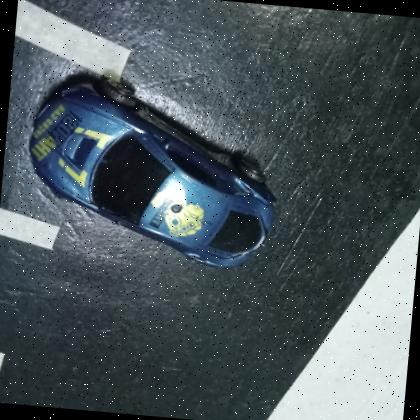Car: (28, 75, 275, 267)
